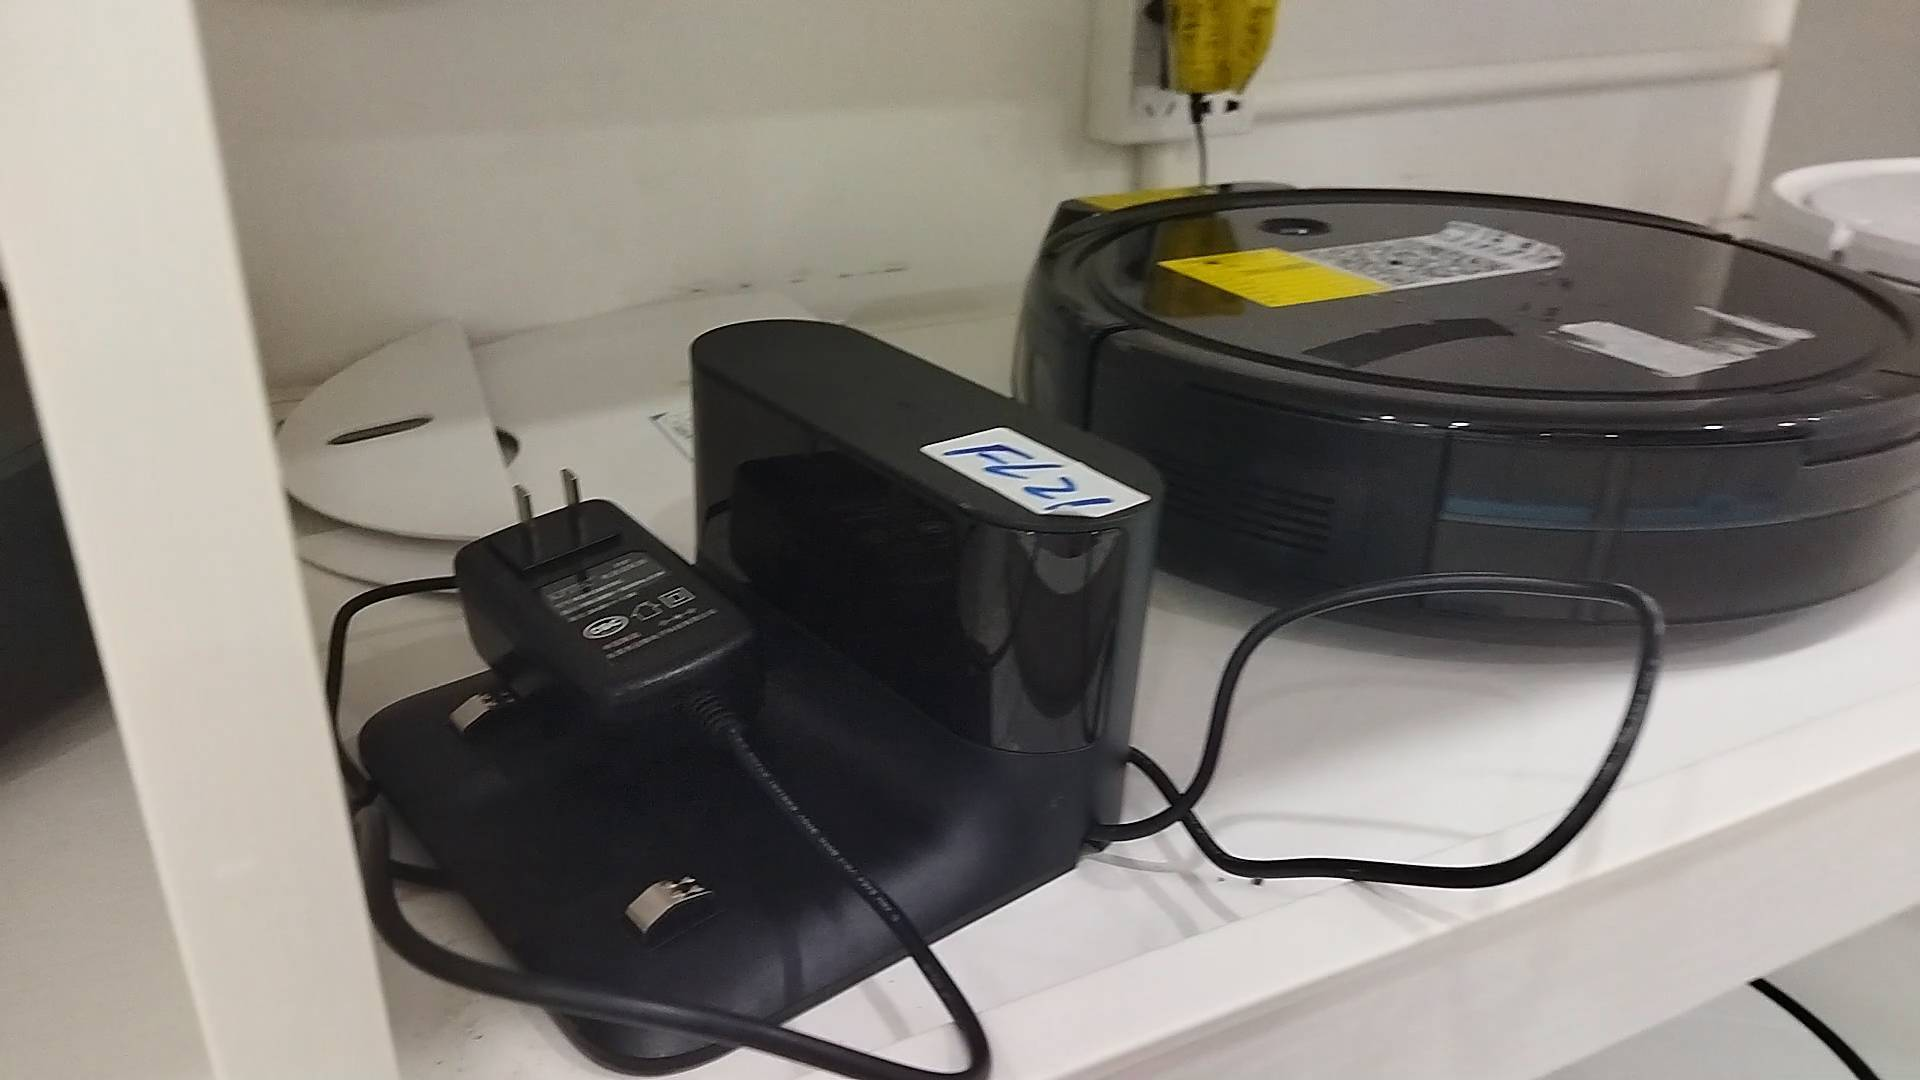recharge seat: (359, 316, 1163, 1075)
